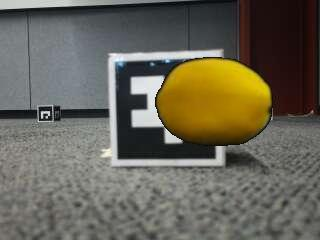lemon: (159, 58, 273, 144)
